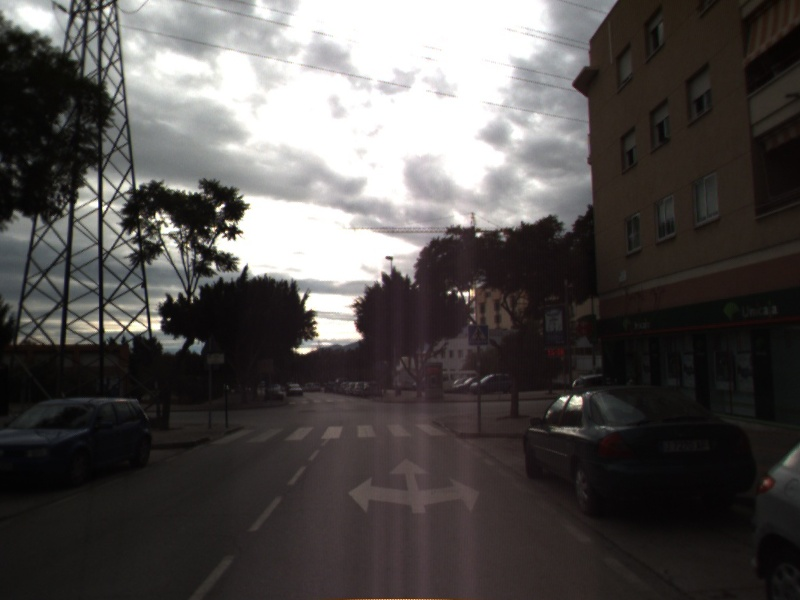STRAIGHT_LEFT_RIGHT: (346, 456, 483, 515)
